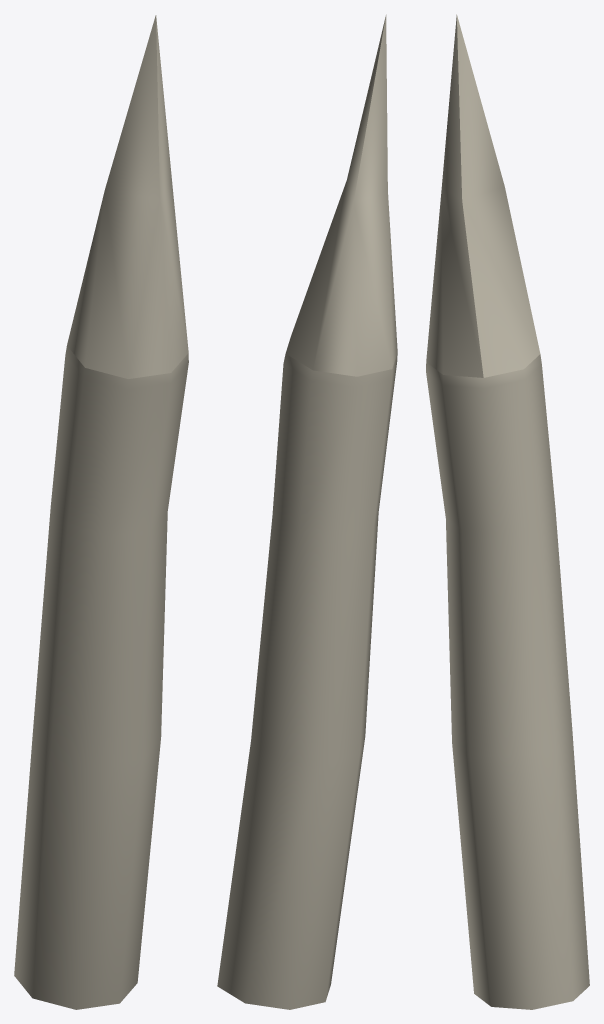
The model's file is Spike_04.fbx.
3 renders of one model, left to right at view 1: azimuth 90°, elevation 25°; view 2: azimuth 150°, elevation 25°; view 3: azimuth 270°, elevation 25°, orthographic. The views are drawn at different scales.
Visible parts, largest first — view 1: Spike_04; view 2: Spike_04; view 3: Spike_04.
Boxes of the visible parts, x1=… form: Spike_04: x1=14, y1=15, x2=188, y2=1009; Spike_04: x1=217, y1=14, x2=397, y2=1009; Spike_04: x1=426, y1=14, x2=589, y2=1009.
Bounding box in the file's own units: 7.75 × 49.64 × 7.79.
